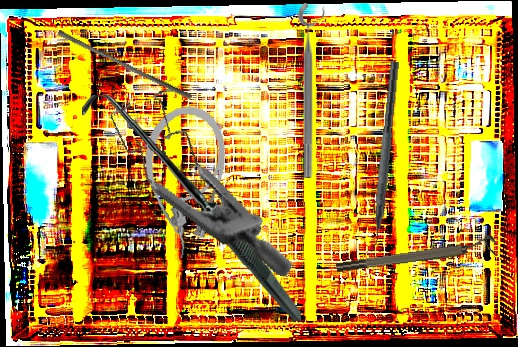Cannula: (130, 100, 233, 263)
Chopper: (359, 59, 400, 261)
Fixation Ring: (334, 233, 498, 276), (298, 3, 327, 178)
Hook Surgical: (81, 91, 302, 325)
Pusher: (55, 29, 195, 100)
Speculum: (80, 73, 330, 278)
